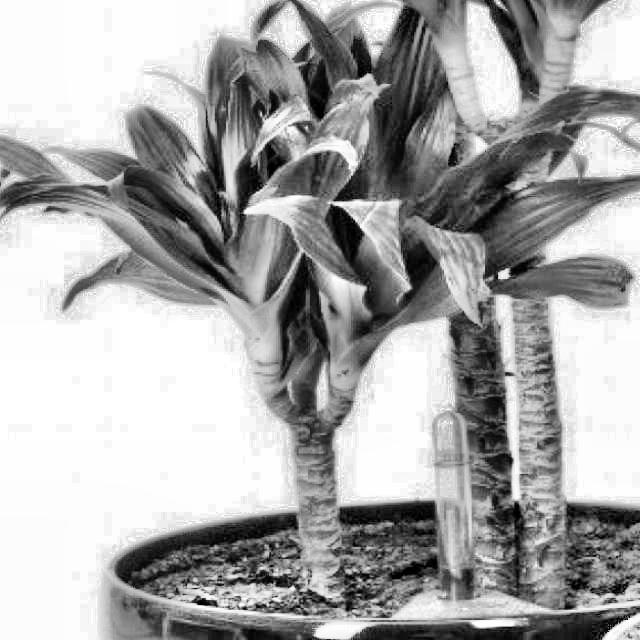plants: (46, 17, 640, 604)
